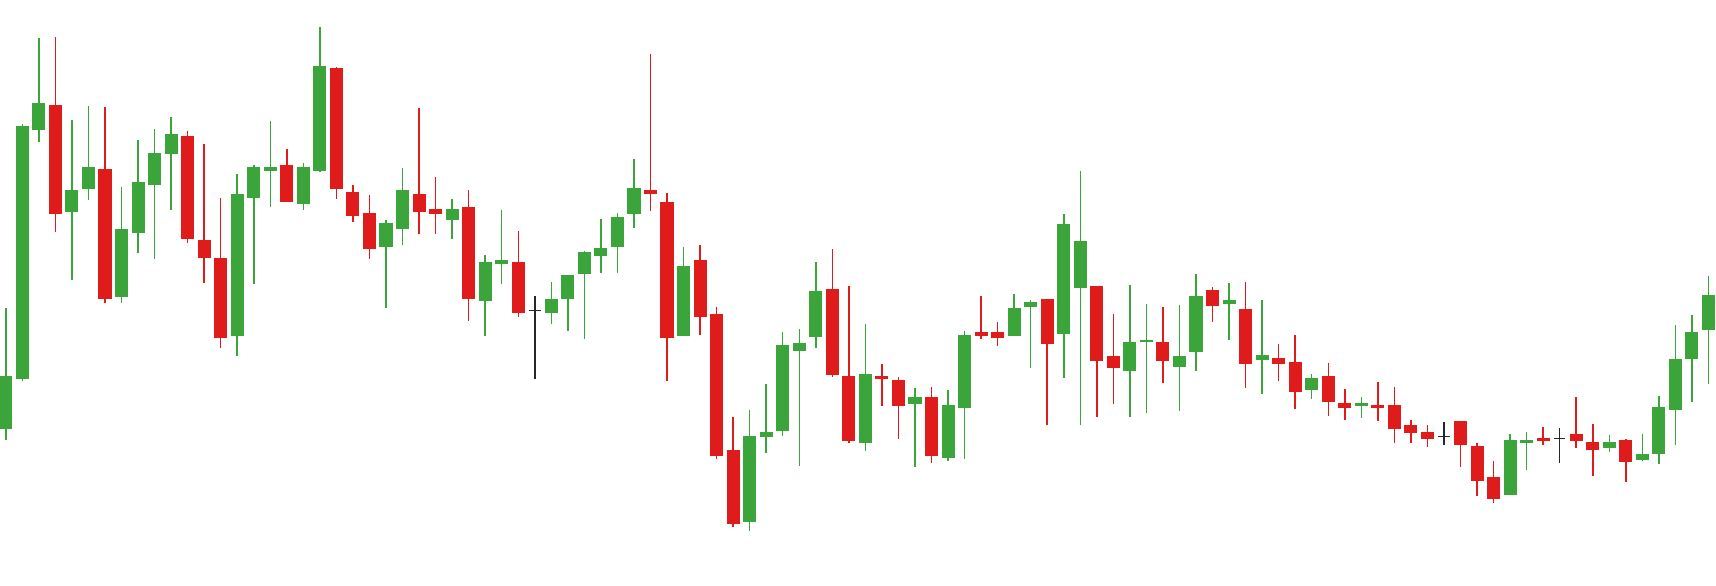buy: (98, 148, 247, 353)
sell: (408, 51, 657, 262)
